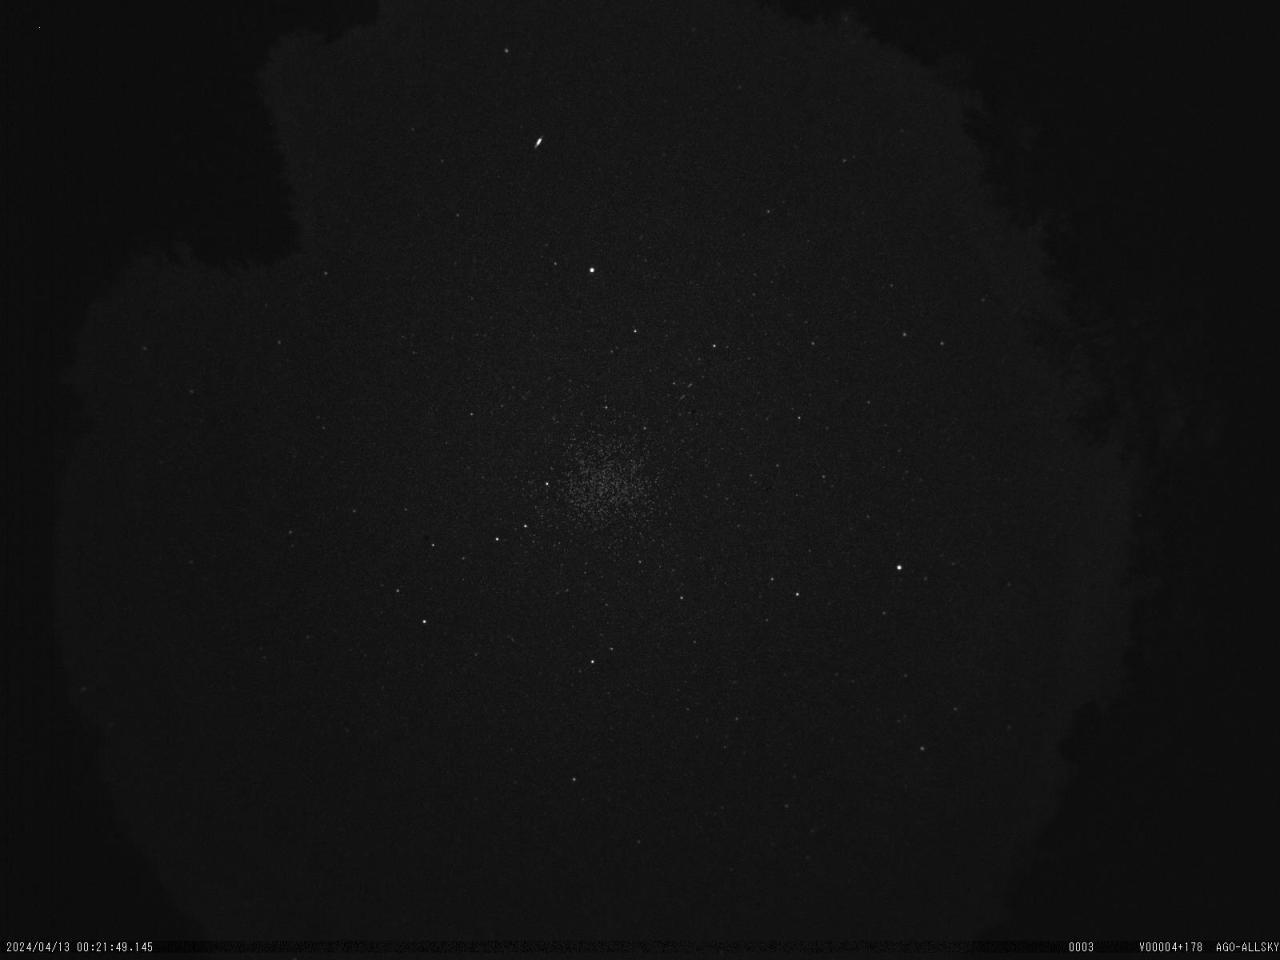Meteor: (527, 129, 545, 167)
